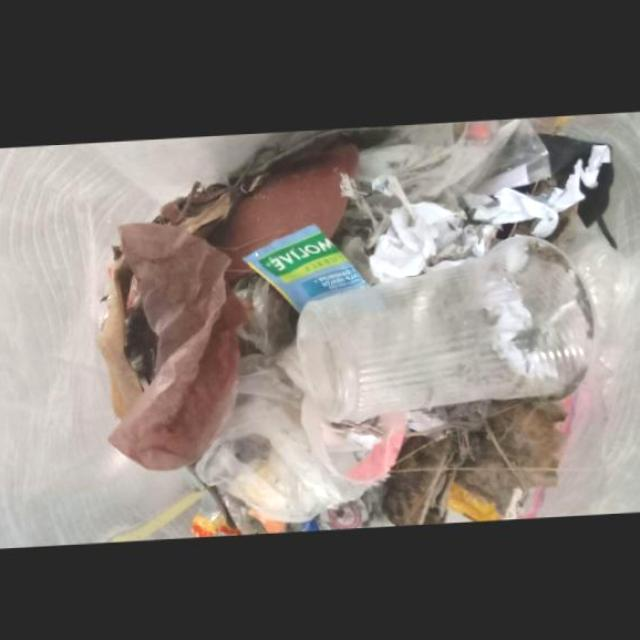giay: (465, 160, 588, 239), (372, 190, 473, 282)
goi_nhua_nho: (245, 223, 374, 310)
hop_nhua: (301, 232, 602, 422)
la_cay: (110, 194, 250, 470)
tui_ni_long: (196, 352, 381, 523)
